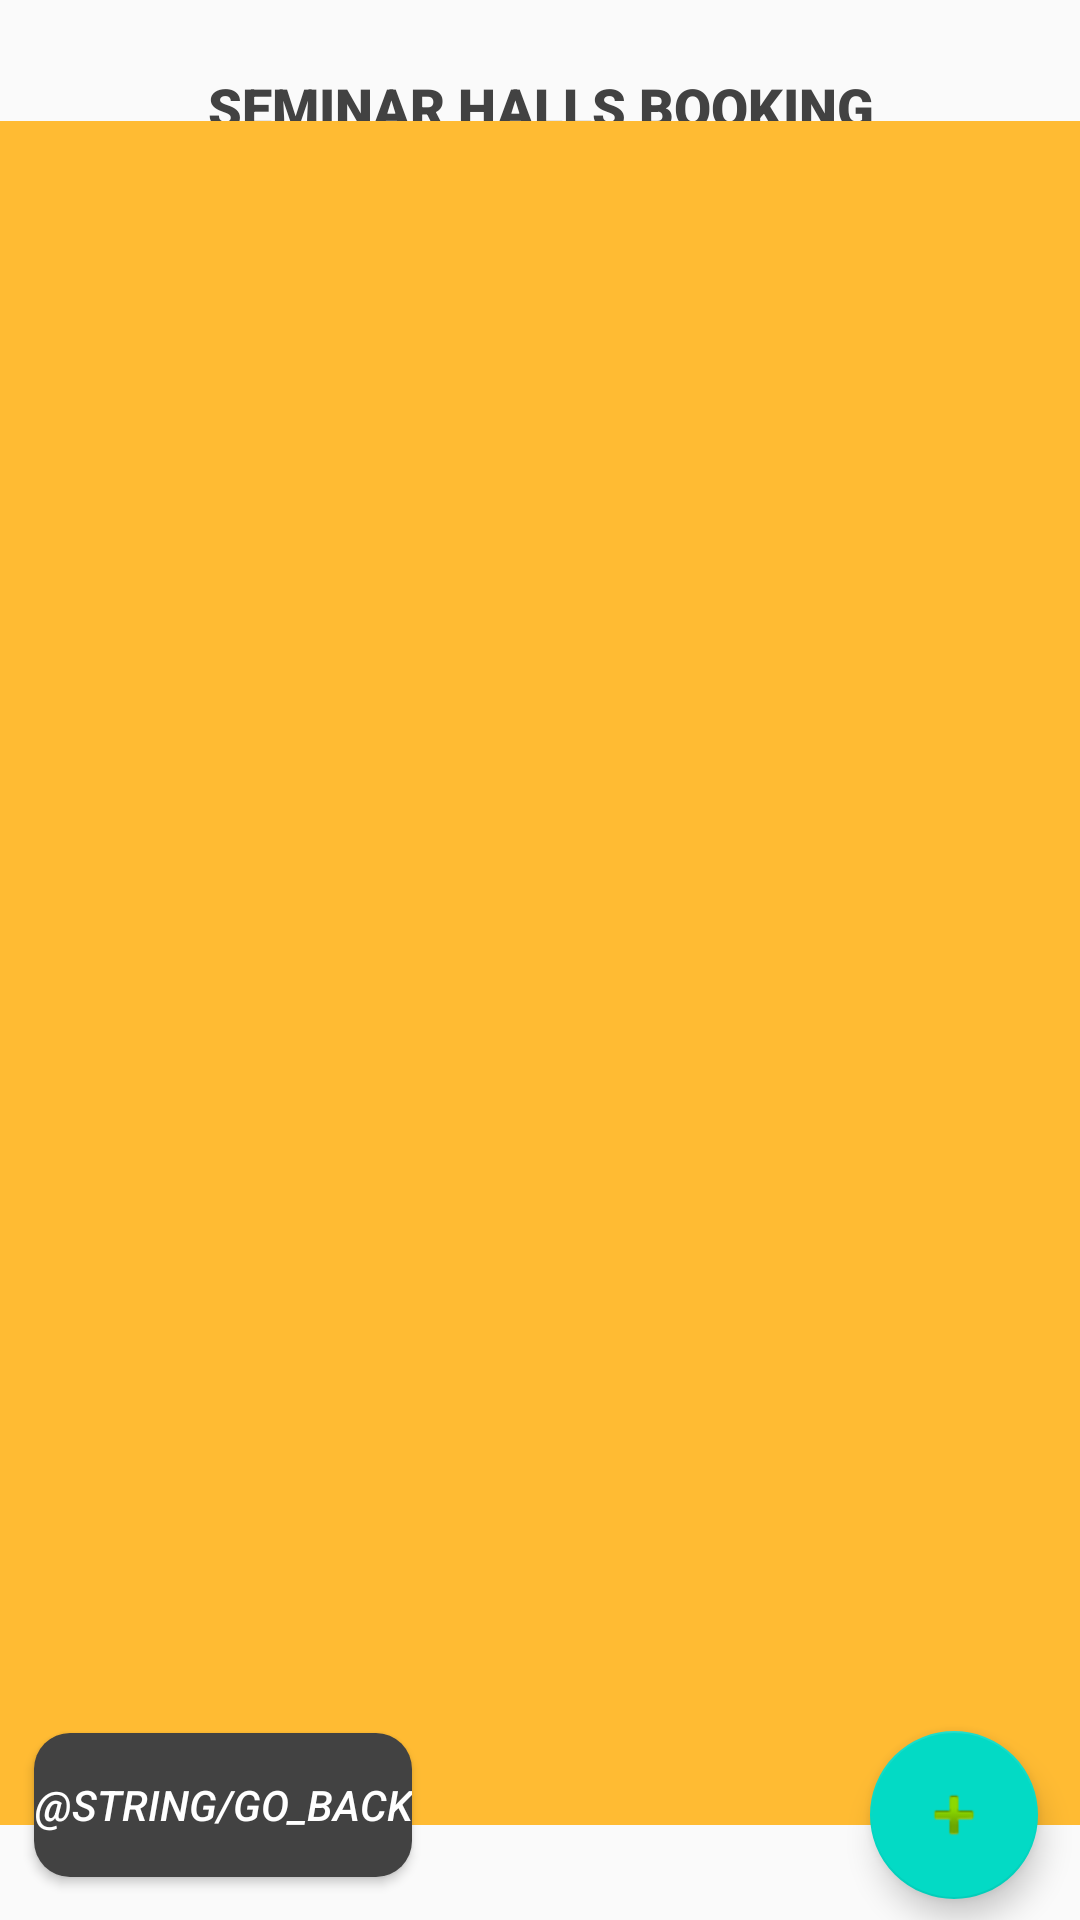

Where to tap for icons on this 1080 x 1920 app screen, as point (x, y):
add: point (954, 1815)
